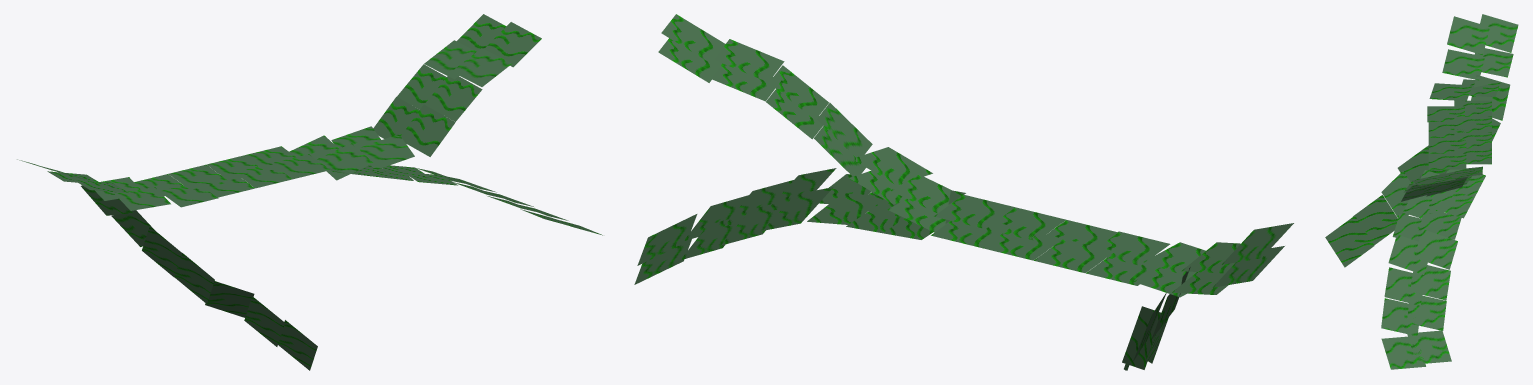
Rendered from liana.glb.
3 views of the same model, side by side, from view 1: azimuth 30°, elevation 25°; view 2: azimuth 150°, elevation 25°; view 3: azimuth 270°, elevation 25° (orthographic). The views are drawn at different scales.
Visible parts, largest first — view 1: stktex_jungleVines_a.png__; view 2: stktex_jungleVines_a.png__; view 3: stktex_jungleVines_a.png__.
Part boxes in pixels (bbox=[...]): stktex_jungleVines_a.png__: bbox=[17, 14, 602, 370]; stktex_jungleVines_a.png__: bbox=[634, 14, 1293, 370]; stktex_jungleVines_a.png__: bbox=[1325, 14, 1518, 369].
Size of the model in its own units: 27.43 by 11.69 by 10.29.
Materials: 1 (1 with a texture image).
